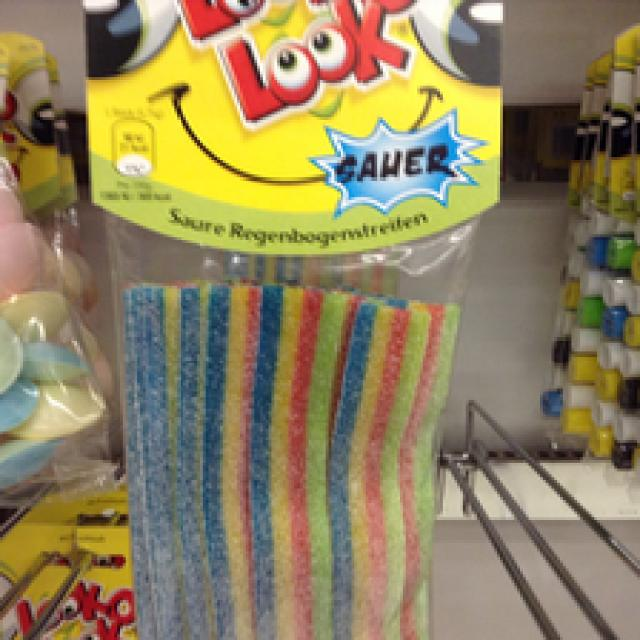groceries: (86, 3, 494, 637)
